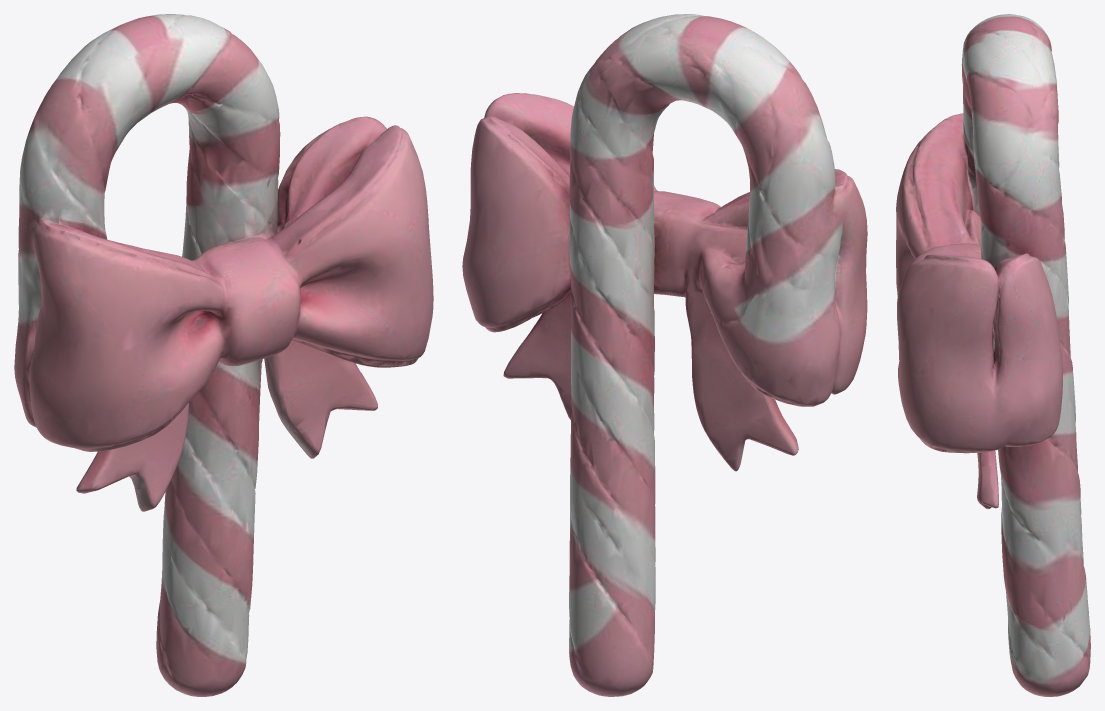
The picture shows the model from 3 angles, left to right: view 1: azimuth 30°, elevation 25°; view 2: azimuth 150°, elevation 25°; view 3: azimuth 270°, elevation 25°; orthographic projection. The views are drawn at different scales.
Bounding box in the file's own units: 1.09 × 1.9 × 0.5307.
1 material, 1 textured.
